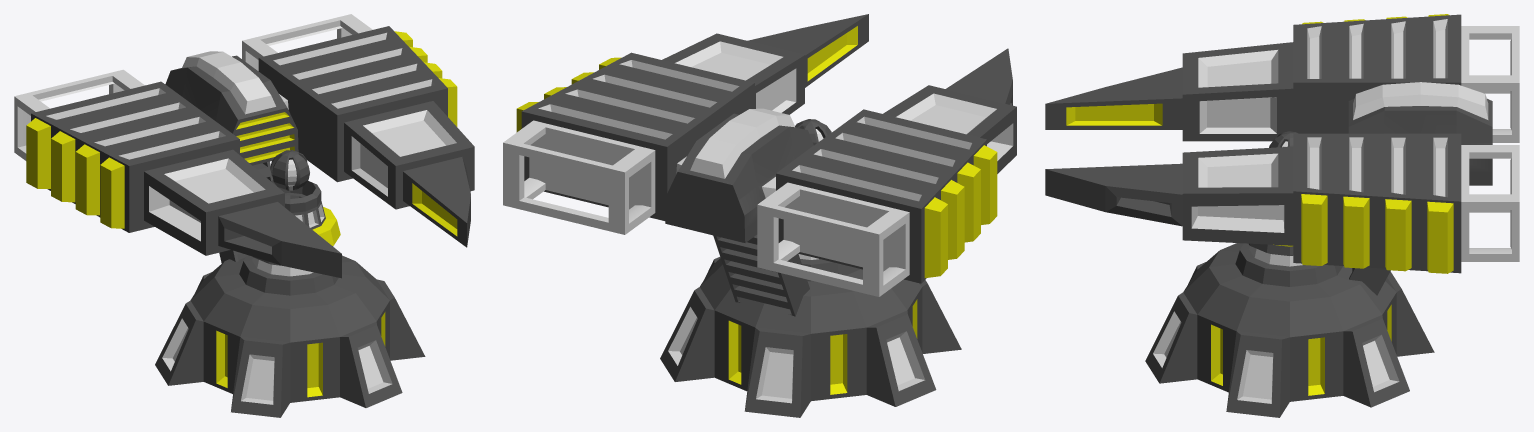
The model's file is tower9_1.fbx.
3 renders of one model, left to right at view 1: azimuth 30°, elevation 25°; view 2: azimuth 150°, elevation 25°; view 3: azimuth 270°, elevation 25°, orthographic. The views are drawn at different scales.
Parts seen in each view (by area): view 1: polySurface69; view 2: polySurface69; view 3: polySurface69.
Part boxes in pixels (left/top/right/bottom): polySurface69: left=14, top=14, right=474, bottom=417; polySurface69: left=503, top=14, right=1016, bottom=417; polySurface69: left=1045, top=14, right=1519, bottom=417.
Bounding box in the file's own units: 0.9649 × 0.6089 × 0.9754.
